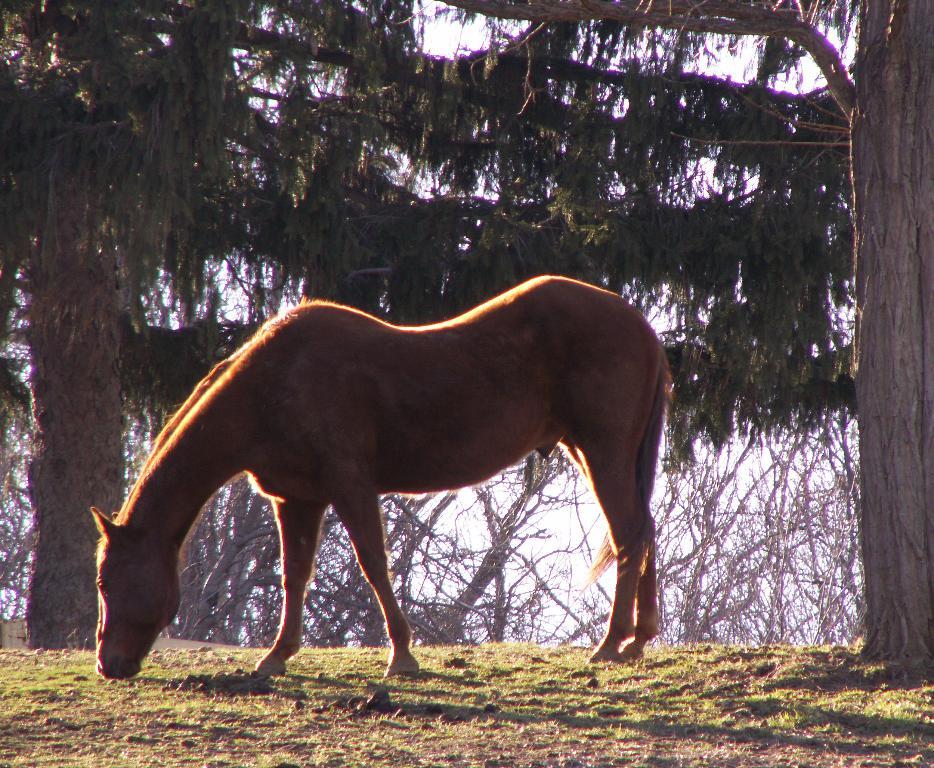horse: (89, 270, 669, 679)
